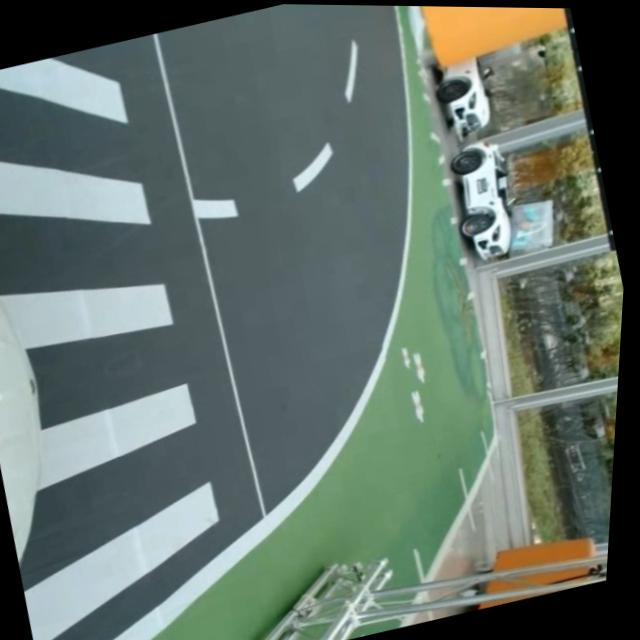traffic-light: (528, 8, 631, 255)
